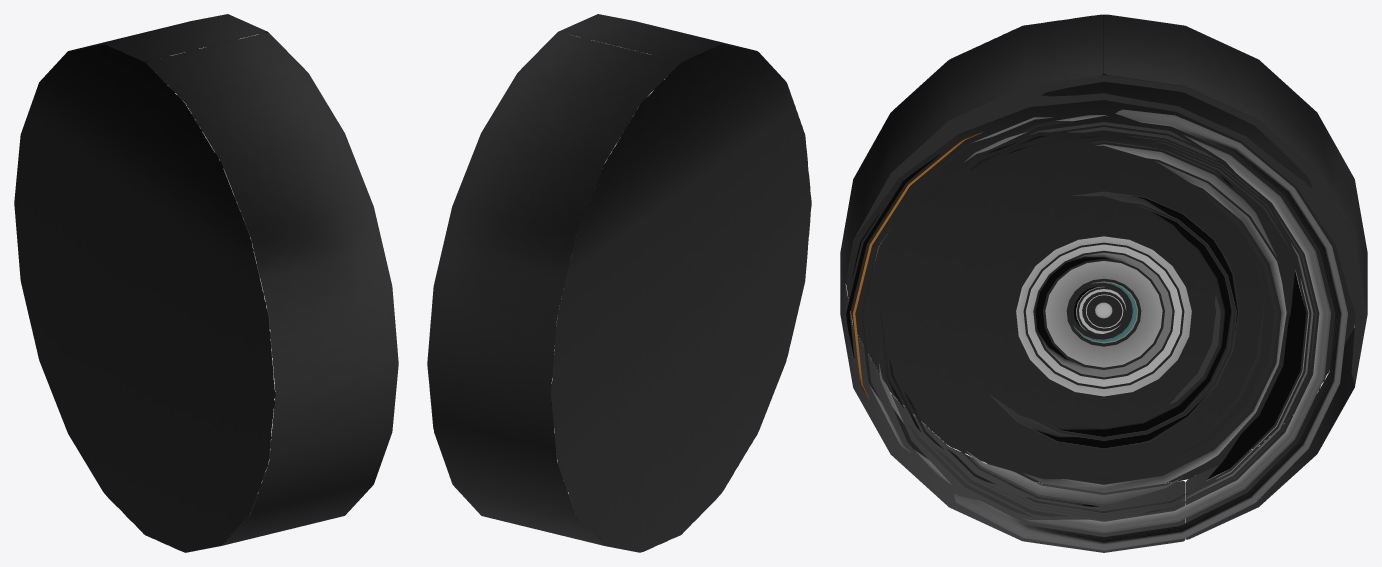
The model's file is WheelCollider.fbx.
3 views of the same model, side by side, from view 1: azimuth 30°, elevation 25°; view 2: azimuth 150°, elevation 25°; view 3: azimuth 270°, elevation 25° (orthographic).
Parts seen in each view (by area): view 1: FL_Tire1; view 2: FL_Tire1; view 3: FL_Tire1.
Part boxes in pixels (<box>): FL_Tire1: <box>14,14,398,552</box>; FL_Tire1: <box>427,14,811,552</box>; FL_Tire1: <box>840,14,1367,552</box>.
Bounding box in the file's own units: 0.1655 × 0.6052 × 0.6052.
